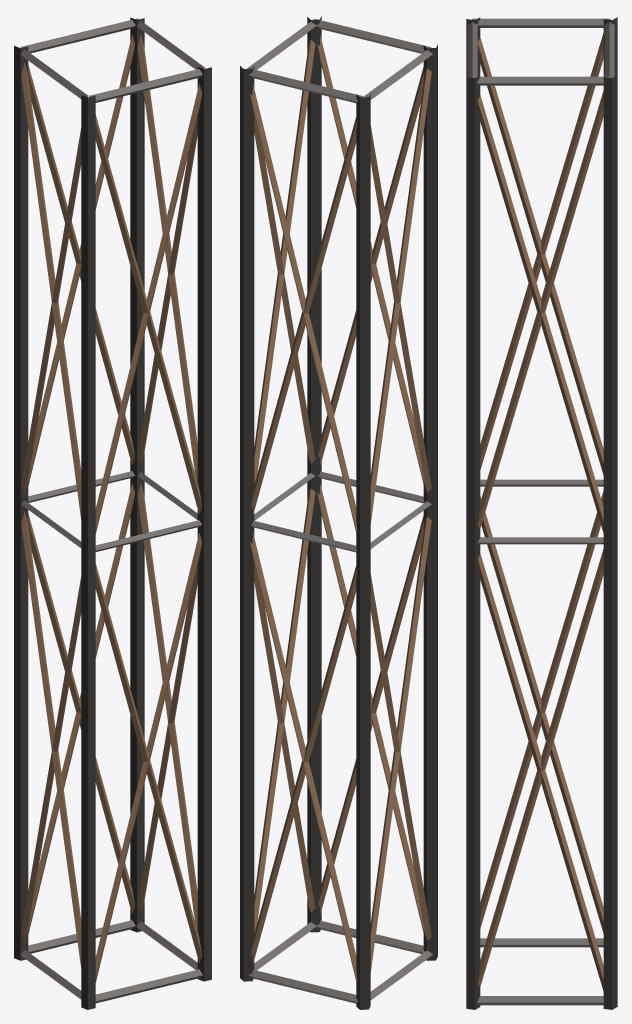
The model's file is rn2-forja-truss.glb.
3 views of the same model, side by side, from view 1: azimuth 30°, elevation 25°; view 2: azimuth 150°, elevation 25°; view 3: azimuth 270°, elevation 25° (orthographic). The views are drawn at different scales.
Parts seen in each view (by area): view 1: rn2_forja_truss_body; view 2: rn2_forja_truss_body; view 3: rn2_forja_truss_body.
Part boxes in pixels (<box>): rn2_forja_truss_body: <box>14,17,211,1009</box>; rn2_forja_truss_body: <box>240,16,437,1009</box>; rn2_forja_truss_body: <box>466,17,617,1009</box>.
Bounding box in the file's own units: 1.77 × 12 × 1.76.
